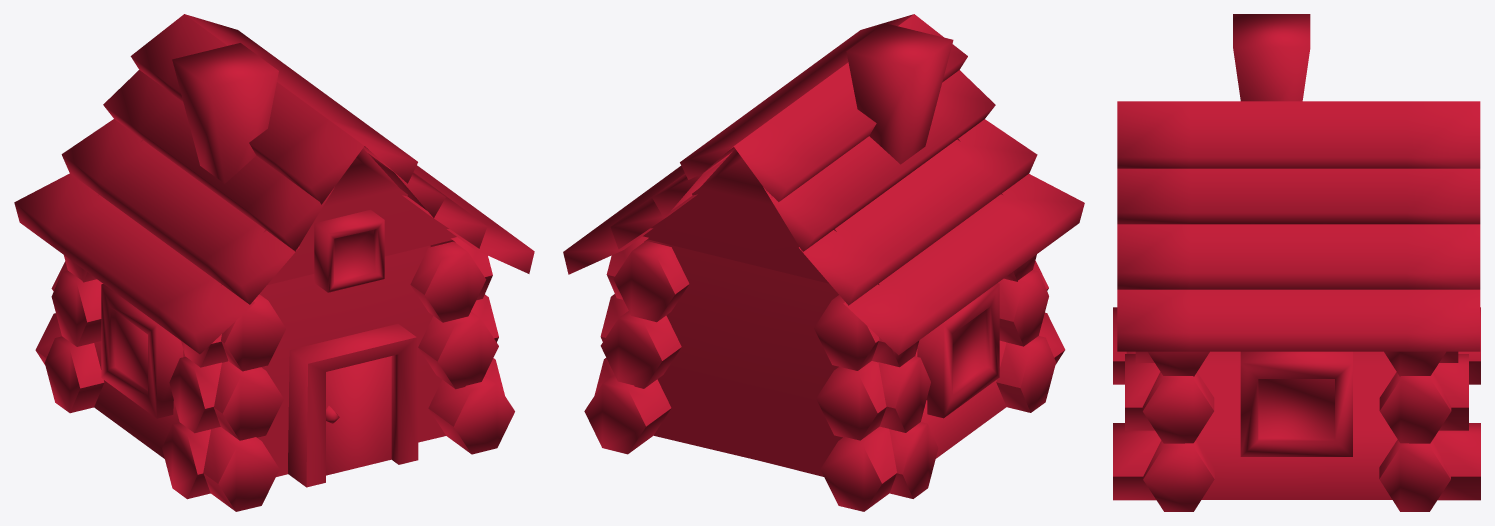
Rendered from SM_Shelter_01_LOD2.fbx.
3 views of the same model, side by side, from view 1: azimuth 30°, elevation 25°; view 2: azimuth 150°, elevation 25°; view 3: azimuth 270°, elevation 25° (orthographic).
Visible parts, largest first — view 1: SM_Shelter_01_LOD2; view 2: SM_Shelter_01_LOD2; view 3: SM_Shelter_01_LOD2.
Part boxes in pixels (x1=…): SM_Shelter_01_LOD2: x1=14, y1=14, x2=534, y2=511; SM_Shelter_01_LOD2: x1=563, y1=14, x2=1084, y2=511; SM_Shelter_01_LOD2: x1=1113, y1=14, x2=1480, y2=511.
Size of the model in its own units: 550 by 576 by 512.
